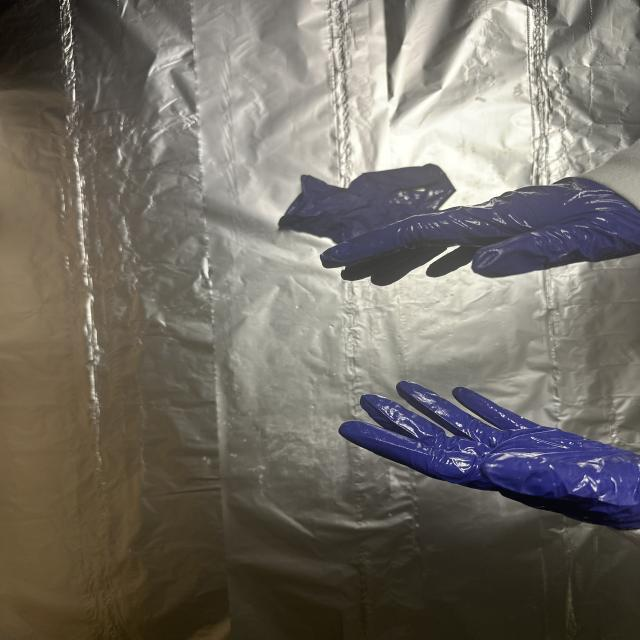gloves_contaminated: (339, 382, 640, 530), (320, 178, 640, 284)
